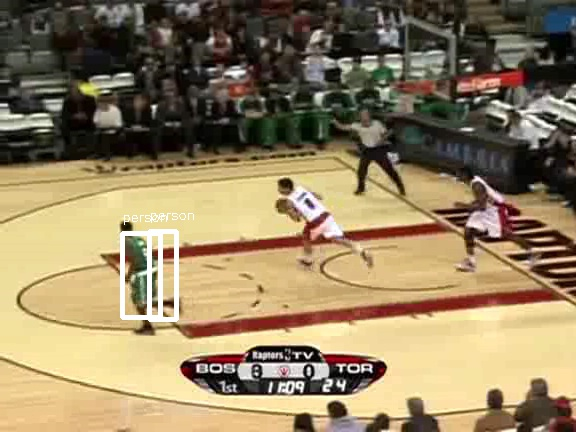person: (124, 229, 158, 310), (123, 229, 157, 310), (125, 229, 159, 310), (124, 228, 158, 309), (124, 230, 158, 311)
target_negative: (54, 206, 386, 252), (247, 336, 400, 426), (30, 402, 321, 423), (394, 153, 412, 420), (347, 244, 565, 262), (96, 275, 116, 419)
